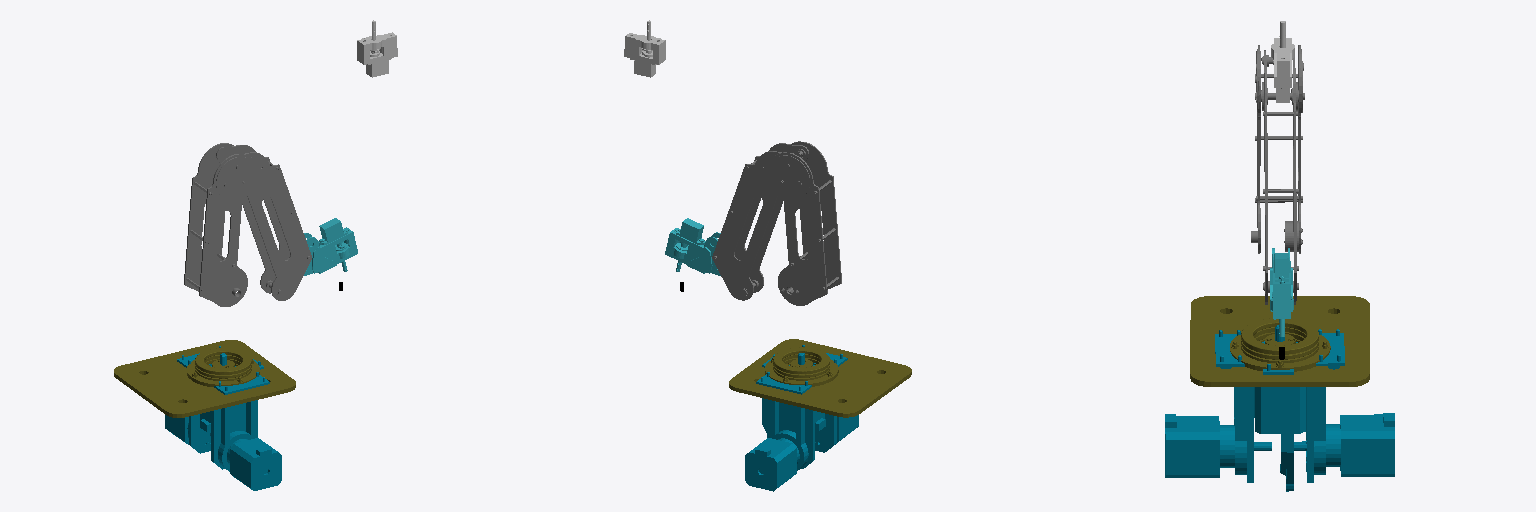
robot.urdf — armbot:
<?xml version="1.0" encoding="utf-8" ?>
<!-- This URDF was automatically created by SolidWorks to URDF Exporter! Originally created by [author] ([email redacted]) 
     Commit Version: 1.6.0-4-g7f85cfe  Build Version: 1.6.7995.38578
     For more information, please see http://wiki.ros.org/sw_urdf_exporter -->
<robot name="armbot">
    <material name="Black">
        <color rgba="0 0 0 1" />
    </material>
    <material name="White">
        <color rgba="1 1 1 1" />
    </material>
    <material name="Grey">
        <color rgba="0.5 0.5 0.5 1" />
    </material>
    <material name="Blue">
        <color rgba="0.03 0.53 0.64 1" />
    </material>
    <material name="BlueLight">
        <color rgba="0.24 0.69 0.74 1" />
    </material>
    <material name="Yellow">
        <color rgba="0.42 0.40 0.15 1" />
    </material>
    <link name="world" />
    <joint name="joint1_world" type="fixed">
        <parent link="world" />
        <child link="base_link" />
    </joint>
    <link name="base_link">
        
<inertial>
            <origin xyz="0.0211202900240581 2.59775846834193E-11 0.00380052135150776" rpy="0 0 0" />
            <mass value="0.271570047216607" />
            <inertia ixx="0.000442541459178714" ixy="-7.61202510824958E-12" ixz="-5.27773157069647E-07" iyy="0.000555892462598209" iyz="5.63321074251884E-15" izz="0.000997118891006557" />
        </inertial>

        <visual>
            <origin xyz="0 0 0" rpy="0 0 3.14" />
            <geometry>
                <mesh filename="package://armbot_description/meshes/model_npoa/base_link.STL" />
            </geometry>
            <material name="Yellow" />
        </visual>
        <collision>
            <origin xyz="0 0 0" rpy="0 0 0" />
            <geometry>
                <mesh filename="package://armbot_description/meshes/model_npoa/base_link.STL" />
            </geometry>
        </collision>
    </link>
    <link name="link_1">

<inertial>
            <origin xyz="-0.00272155425407784 -0.000113340999406611 -0.0586724985336868" rpy="0 0 0" />
            <mass value="0.579092466366984" />
            <inertia ixx="0.000456587803138105" ixy="-1.13087657027162E-07" ixz="3.16702255632446E-06" iyy="0.000511771419629803" iyz="-1.37277769518058E-06" izz="0.000496840287124422" />
        </inertial>

        <visual>
            <origin xyz="0 0 0" rpy="0 0 3.14" />
            <geometry>
                <mesh filename="package://armbot_description/meshes/model_npoa/link_1.STL" />
            </geometry>
            <material name="Blue" />
        </visual>
        <collision>
            <origin xyz="0 0 0" rpy="0 0 0" />
            <geometry>
                <mesh filename="package://armbot_description/meshes/model_npoa/link_1.STL" />
            </geometry>
        </collision>
    </link>
    <joint name="joint_1" type="revolute">
        <origin xyz="0.003 0 0.0155" rpy="-3.1416 0 -3.1269" />
        <parent link="base_link" />
        <child link="link_1" />
        <axis xyz="0 0 -1" />
        <limit lower="-2.25" upper="2.25" effort="150" velocity="3.15" />
    </joint>
    <link name="link_2">

<inertial>
            <origin xyz="0.0886170480813812 0.005985856672575 0.0152502295082419" rpy="0 0 0" />
            <mass value="0.100204717943486" />
            <inertia ixx="2.61429021289324E-05" ixy="2.54454507036305E-05" ixz="1.09431347818403E-11" iyy="0.000203985274699578" iyz="-1.27442674892586E-12" izz="0.000226109263195528" />
        </inertial>

        <visual>
            <origin xyz="0 -0.005 0" rpy="0 0 0" />
            <geometry>
                <mesh filename="package://armbot_description/meshes/model_npoa/link_2.STL" />
            </geometry>
            <material name="Grey" />
        </visual>
        <collision>
            <origin xyz="0 0 0" rpy="0 0 0" />
            <geometry>
                <mesh filename="package://armbot_description/meshes/model_npoa/link_2.STL" />
            </geometry>
        </collision>
    </link>
    <joint name="joint_2" type="revolute">
        <origin xyz="0.0027435 0.0155 -0.09502" rpy="1.5708 1.5708 0" />
        <parent link="link_1" />
        <child link="link_2" />
        <axis xyz="0 0 1" />
        <limit lower="-1.5708" upper="0" effort="150" velocity="3.15" />
    </joint>
    <link name="link_3">

<inertial>
            <origin xyz="0.064674729234811 -0.0429649321408343 -0.010241645589869" rpy="0 0 0" />
            <mass value="0.0817197581918697" />
            <inertia ixx="4.0415498257249E-05" ixy="6.56935131118188E-05" ixz="-6.5359216897847E-12" iyy="0.000201073936512037" iyz="2.86095194327021E-12" izz="0.000240128503885537" />
        </inertial>

        <visual>
            <origin xyz="0 0 0" rpy="0 0 0" />
            <geometry>
                <mesh filename="package://armbot_description/meshes/model_npoa/link_3.STL" />
            </geometry>
            <material name="Grey" />
        </visual>
        <collision>
            <origin xyz="0 0 0" rpy="0 0 0" />
            <geometry>
                <mesh filename="package://armbot_description/meshes/model_npoa/link_3.STL" />
            </geometry>
        </collision>
    </link>
    <joint name="joint_3" type="revolute">
        <origin xyz="0.13709 -0.015779 0.0061346" rpy="3.1416 0 -2.8788" />
        <parent link="link_2" />
        <child link="link_3" />
        <axis xyz="0.0026029 -0.0096749 0.99995" />
        <limit lower="-1.5708" upper="0" effort="150" velocity="3.15" />
    </joint>
    <link name="link_4">

<inertial>
            <origin xyz="-0.00375610824670326 0.0215143905323992 0.00749999999999806" rpy="0 0 0" />
            <mass value="0.0208066724716135" />
            <inertia ixx="6.19890674797337E-06" ixy="2.80615422421083E-06" ixz="-1.89885927056448E-19" iyy="4.90291491797169E-06" iyz="-4.33905862120816E-20" izz="9.64616279359452E-06" />
        </inertial>

        <visual>
            <origin xyz="0 0 0" rpy="0 0 0" />
            <geometry>
                <mesh filename="package://armbot_description/meshes/model_npoa/link_4.STL" />
            </geometry>
            <material name="BlueLight" />
        </visual>
        <collision>
            <origin xyz="0 0 0" rpy="0 0 0" />
            <geometry>
                <mesh filename="package://armbot_description/meshes/model_npoa/link_4.STL" />
            </geometry>
        </collision>
    </link>
    <joint name="joint_4" type="revolute">
        <origin xyz="0.15162 -0.051106 -0.017433" rpy="0 0 -3.0829" />
        <parent link="link_3" />
        <child link="link_4" />
        <axis xyz="0 0 1" />
        <limit lower="-3.14159265" upper="3.14159265" effort="150" velocity="3.15" />
    </joint>
    <link name="link_end">

<inertial>
            <origin xyz="-0.0483151025046168 -0.219886709667518 3.40719887590205E-05" rpy="0 0 0" />
            <mass value="0.0720522181905562" />
            <inertia ixx="4.65168177236826E-06" ixy="2.69782530922447E-07" ixz="2.26895455918722E-10" iyy="5.43707428101803E-06" iyz="1.28996353964216E-09" izz="8.25427653472157E-06" />
        </inertial>

        <visual>
            <origin xyz="0.096 0.2375 -0.0075" rpy="0 0 0" />
            <geometry>
                <mesh filename="package://armbot_description/meshes/model_npoa/link_end.STL" />
            </geometry>
            <material name="">
                <color rgba="0.752941176470588 0.752941176470588 0.752941176470588 1" />
            </material>
        </visual>
        <collision>
            <origin xyz="0 0 0" rpy="0 0 0" />
            <geometry>
                <mesh filename="package://armbot_description/meshes/model_npoa/link_end.STL" />
            </geometry>
        </collision>
    </link>
    <joint name="joint_end" type="fixed">
        <origin xyz="0 0 0" rpy="-3.1416 0 1.7749" />
        <parent link="link_4" />
        <child link="link_end" />
        <axis xyz="0 0 0" />
    </joint>
    <link name="link_grip">

<inertial>
            <origin xyz="0.00200590224436334 -0.0122688289336258 0.0385866948639068" rpy="0 0 0" />
            <mass value="0.142220620437737" />
            <inertia ixx="1.22983347376849E-05" ixy="-3.17923624774908E-07" ixz="4.75415212904915E-07" iyy="1.82963683986045E-05" iyz="-5.2172700716867E-07" izz="1.47186042220067E-05" />
        </inertial>

        <visual>
            <origin xyz="0 0 0" rpy="0 0 0" />
            <geometry>
                <cylinder length="0.01" radius="0.0025" />
                <!-- <mesh filename="package://armbot_description/meshes/model_npoa/link_grip.STL" /> -->
            </geometry>
            <material name="Black" />
        </visual>
        <collision>
            <origin xyz="0 0 0" rpy="0 0 0" />
            <geometry>
                <cylinder length="0.01" radius="0.0025" />
                <!-- <mesh filename="package://armbot_description/meshes/model_npoa/link_grip.STL" /> -->
            </geometry>
        </collision>
    </link>
    <joint name="joint_grip" type="revolute">
        <origin xyz="0.0525 -0.0378 -0.0075" rpy="1.5708 0 0" />
        <parent link="link_end" />
        <child link="link_grip" />
        <axis xyz="0 0 -1" />
        <limit lower="-1.570796325" upper="1.570796325" effort="150" velocity="3.15" />
    </joint>
    
<transmission name="trans_joint_1">
        <type>transmission_interface/SimpleTransmission</type>
        <joint name="joint_1">
            <hardwareInterface>hardware_interface/PositionJointInterface</hardwareInterface>
        </joint>
        <actuator name="joint_1_motor">
            <hardwareInterface>hardware_interface/PositionJointInterface</hardwareInterface>
            <mechanicalReduction>1</mechanicalReduction>
        </actuator>
    </transmission>
    <transmission name="trans_joint_2">
        <type>transmission_interface/SimpleTransmission</type>
        <joint name="joint_2">
            <hardwareInterface>hardware_interface/PositionJointInterface</hardwareInterface>
        </joint>
        <actuator name="joint_2_motor">
            <hardwareInterface>hardware_interface/PositionJointInterface</hardwareInterface>
            <mechanicalReduction>1</mechanicalReduction>
        </actuator>
    </transmission>
    <transmission name="trans_joint_3">
        <type>transmission_interface/SimpleTransmission</type>
        <joint name="joint_3">
            <hardwareInterface>hardware_interface/PositionJointInterface</hardwareInterface>
        </joint>
        <actuator name="joint_3_motor">
            <hardwareInterface>hardware_interface/PositionJointInterface</hardwareInterface>
            <mechanicalReduction>1</mechanicalReduction>
        </actuator>
    </transmission>
    <transmission name="trans_joint_4">
        <type>transmission_interface/SimpleTransmission</type>
        <joint name="joint_4">
            <hardwareInterface>hardware_interface/PositionJointInterface</hardwareInterface>
        </joint>
        <actuator name="joint_4_motor">
            <hardwareInterface>hardware_interface/PositionJointInterface</hardwareInterface>
            <mechanicalReduction>1</mechanicalReduction>
        </actuator>
    </transmission>
    <transmission name="trans_joint_grip">
        <type>transmission_interface/SimpleTransmission</type>
        <joint name="joint_grip">
            <hardwareInterface>hardware_interface/PositionJointInterface</hardwareInterface>
        </joint>
        <actuator name="joint_grip_motor">
            <hardwareInterface>hardware_interface/PositionJointInterface</hardwareInterface>
            <mechanicalReduction>1</mechanicalReduction>
        </actuator>
    </transmission>
    <gazebo>
        <plugin name="gazebo_ros_control" filename="libgazebo_ros_control.so">
            <robotNamespace>/</robotNamespace>
        </plugin>
    </gazebo>
</robot>

--- Facts derived from the render (not from the file) ---
Views: 3 orthographic renders of the robot side by side, from view 1: azimuth 30°, elevation 25°; view 2: azimuth 150°, elevation 25°; view 3: azimuth 270°, elevation 25°.
Robot: armbot — 8 links, 7 joints (5 revolute, 2 fixed); root link world; default pose: all joints at 0.
Visible links, largest first — view 1: base_link, link_2, link_1, link_3, link_4, link_end; view 2: base_link, link_2, link_1, link_3, link_4, link_end; view 3: link_1, base_link, link_2, link_3, link_4, link_end.
Boxes of the visible links, box(x1,y1,x2,y2) form: base_link: box(114, 340, 295, 417); link_2: box(184, 143, 257, 306); link_1: box(165, 346, 281, 490); link_3: box(216, 145, 311, 300); link_4: box(304, 218, 357, 275); link_end: box(357, 20, 397, 77); base_link: box(729, 339, 911, 417); link_2: box(767, 141, 841, 305); link_1: box(745, 345, 858, 491); link_3: box(712, 143, 808, 300); link_4: box(665, 218, 720, 275); link_end: box(624, 20, 665, 77); link_1: box(1165, 325, 1394, 491); base_link: box(1190, 296, 1369, 386); link_2: box(1251, 45, 1304, 253); link_3: box(1261, 50, 1298, 304); link_4: box(1270, 248, 1293, 336); link_end: box(1271, 21, 1294, 102).
Bounding box of the posed robot: 0.339 × 0.1927 × 0.5192 m (x, y, z).
Meshes: 6 distinct files referenced, 6 mesh visuals loaded (6 binary STL).